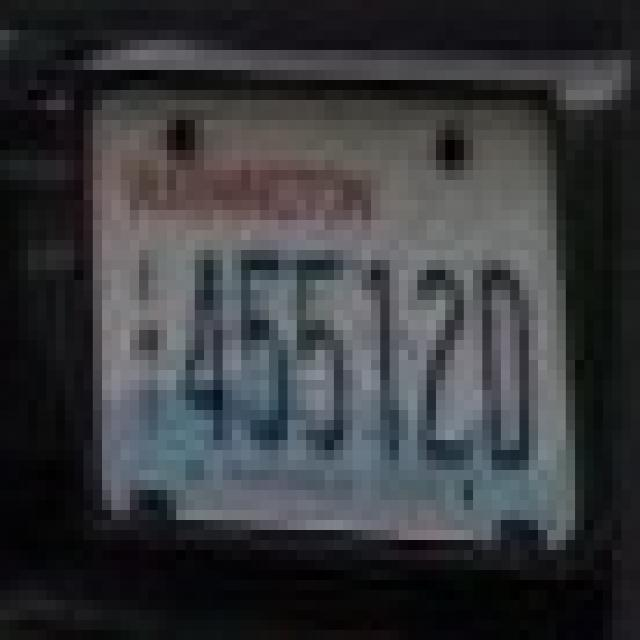LicensePlate: (68, 64, 585, 564)
